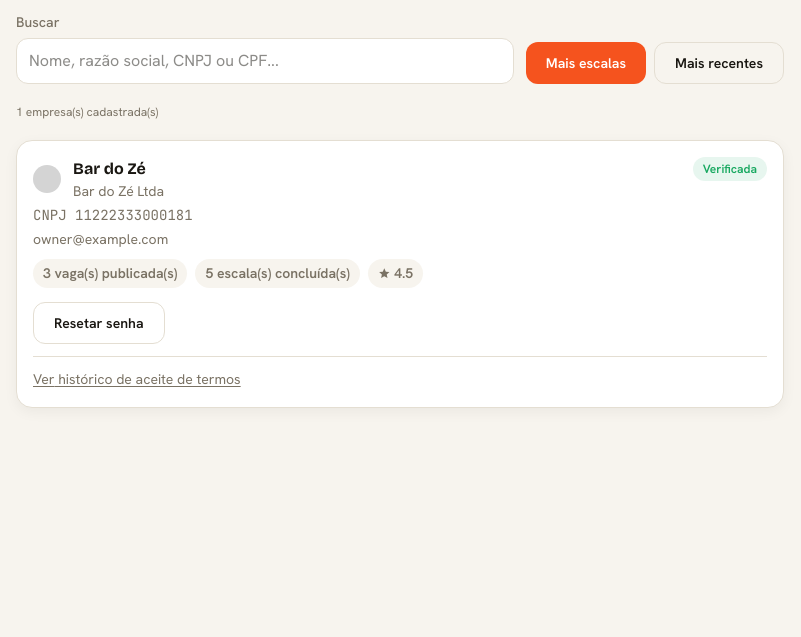
Test: AdminEmpresasPage › mostra o histórico de aceite de termos (incluindo o de vagas pra menores) ao expandir
Expected: the text "Bar do Zé" is shown, [73,159,146,178]
Expected: the text "v1.1 ·" is not shown
Click the button "Ver histórico de aceite de termos".
click(137, 379)  # box [33,369,241,389]
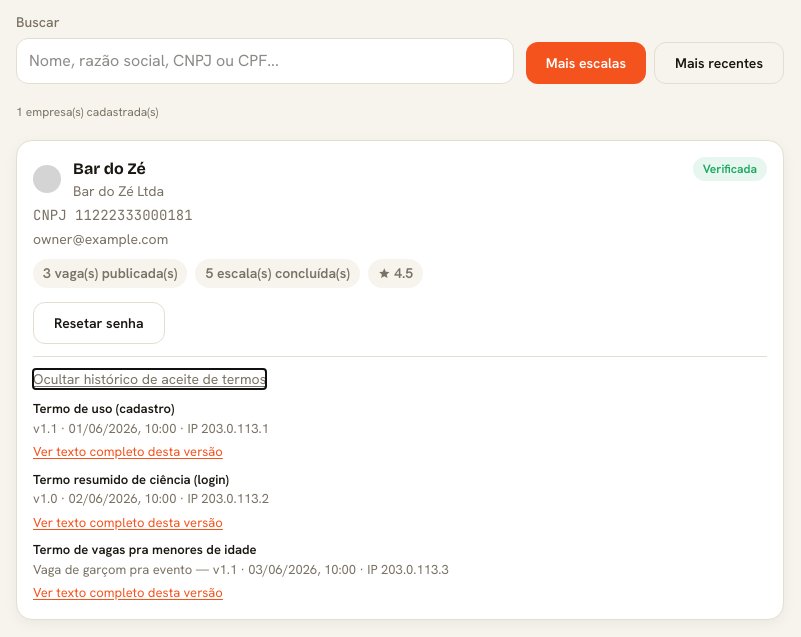
Expected: the text "v1.1 · 01/06/2026, 10:00 · IP 203.0.113.1" is shown, [33,420,269,436]
Expected: the text "v1.0 · 02/06/2026, 10:00 · IP 203.0.113.2" is shown, [33,490,269,507]
Expected: the list item is shown, [33,560,449,602]
